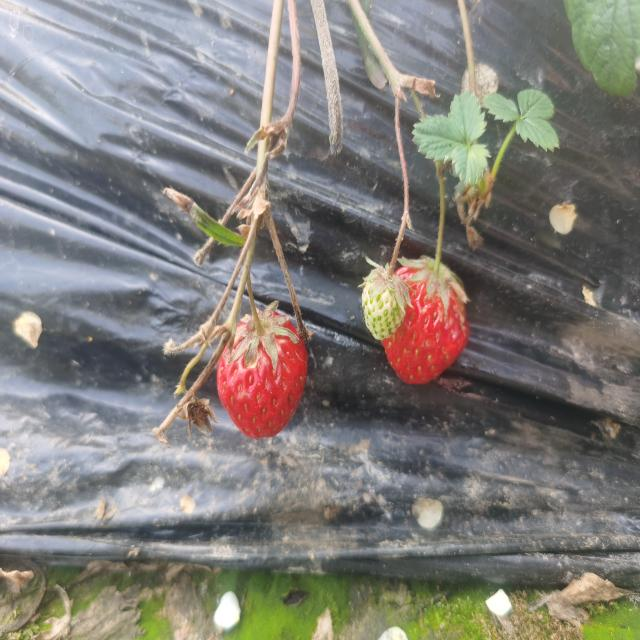stem: (247, 284, 264, 336), (433, 210, 445, 275)
strawberry: (217, 311, 308, 439), (382, 259, 470, 384)
